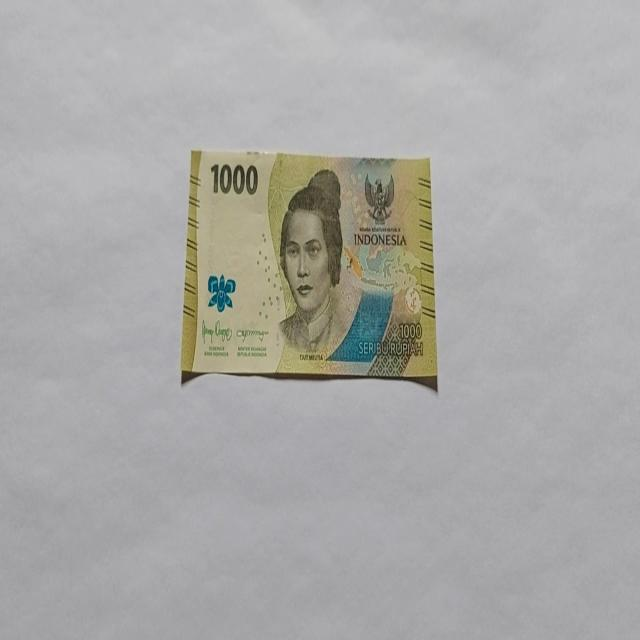seribu rupiah kertas: (180, 148, 437, 386)
